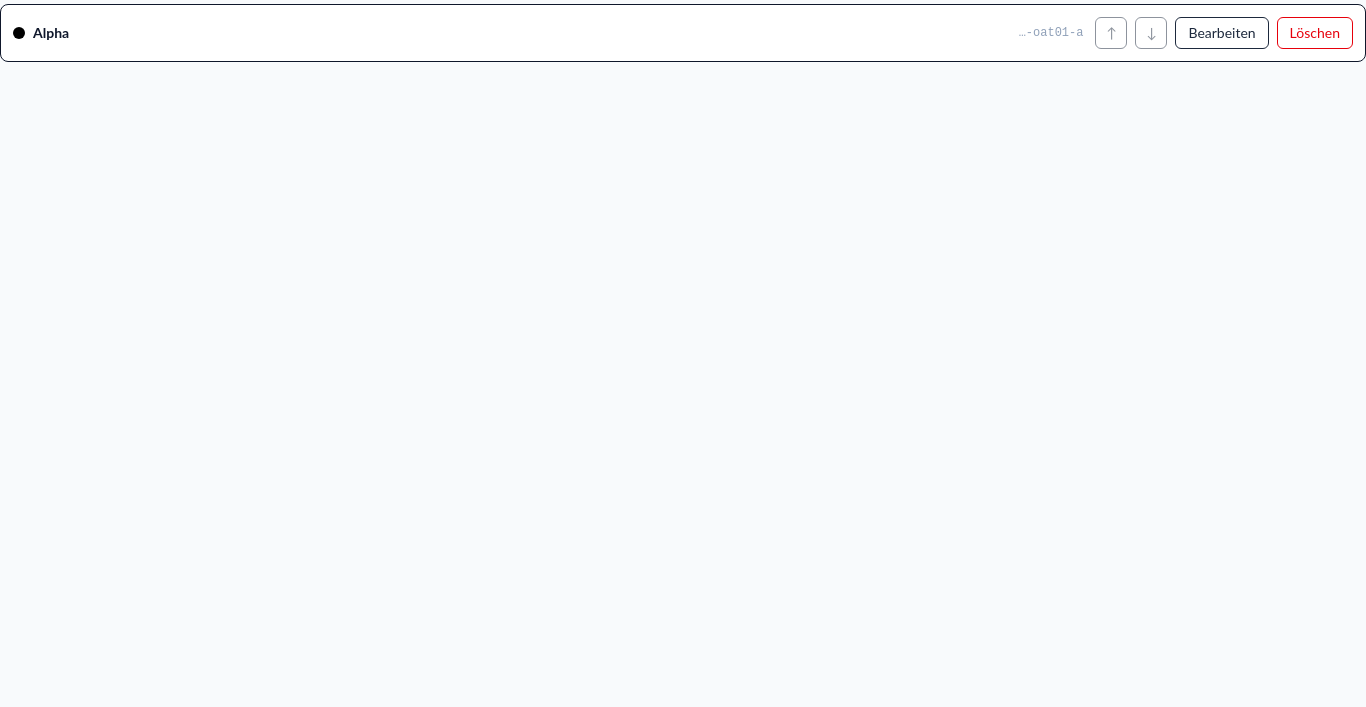
Scenario: AccountsView › leaves the account untouched when editing is cancelled
This screenshot has width=1366, height=707.
Click the button with class "font-bold" showing "Alpha": (51, 32) [33,23,1011,43]
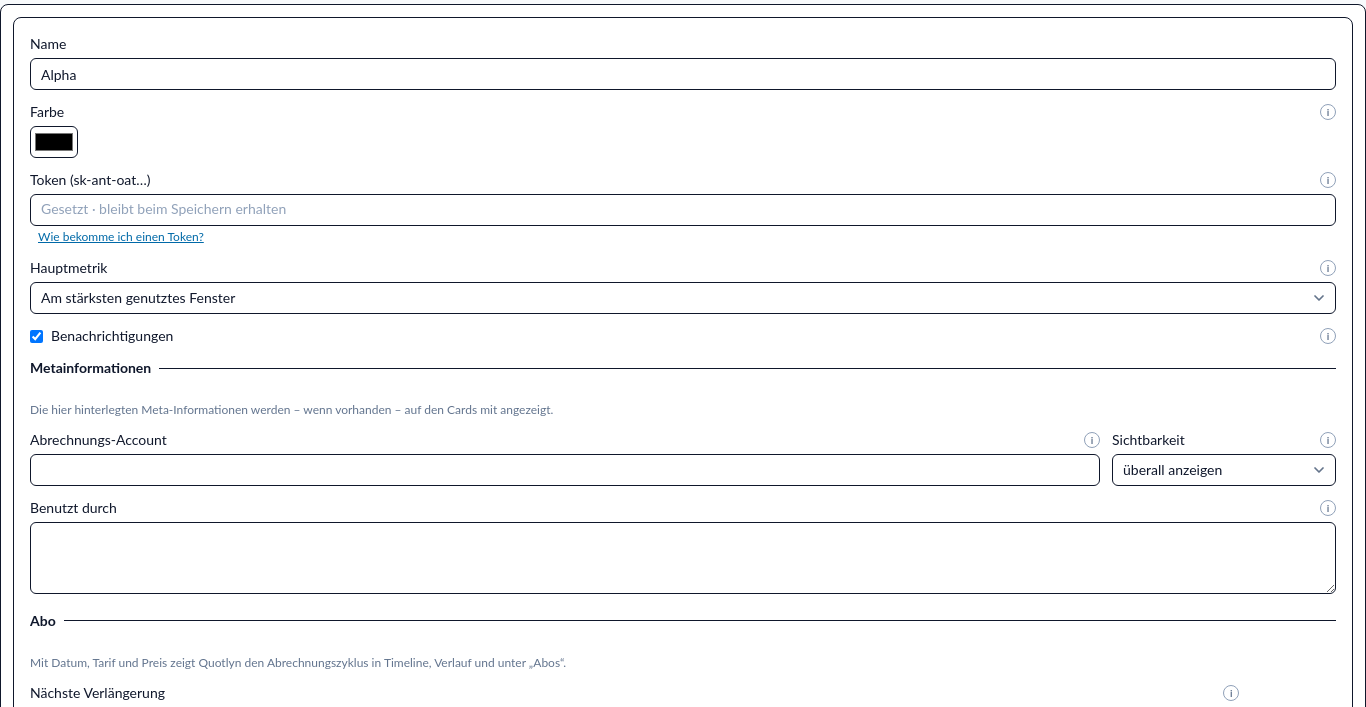
Replace the text in the field labelled "Name" with "Beta": (683, 74) [30,58,1336,90]
(page scrolled)
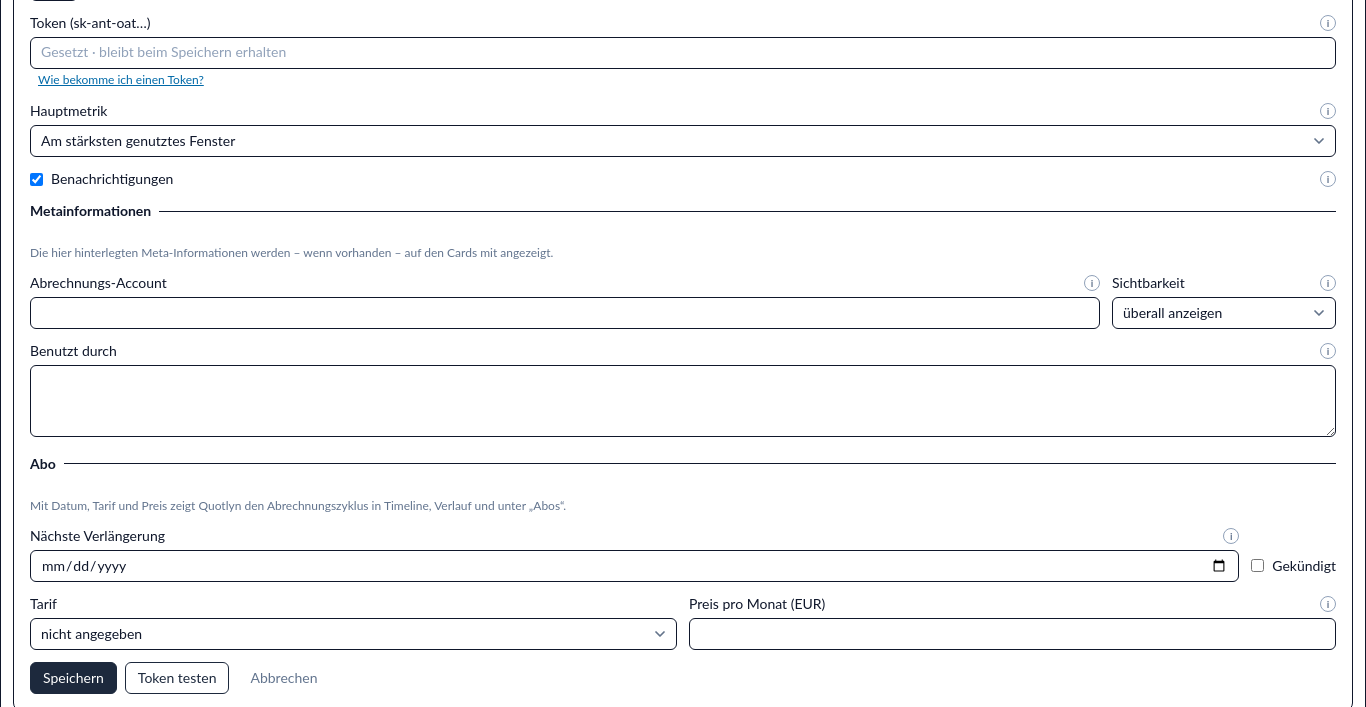
Click the button with class "btn-ghost": (284, 678) [238,662,330,694]
(page scrolled)
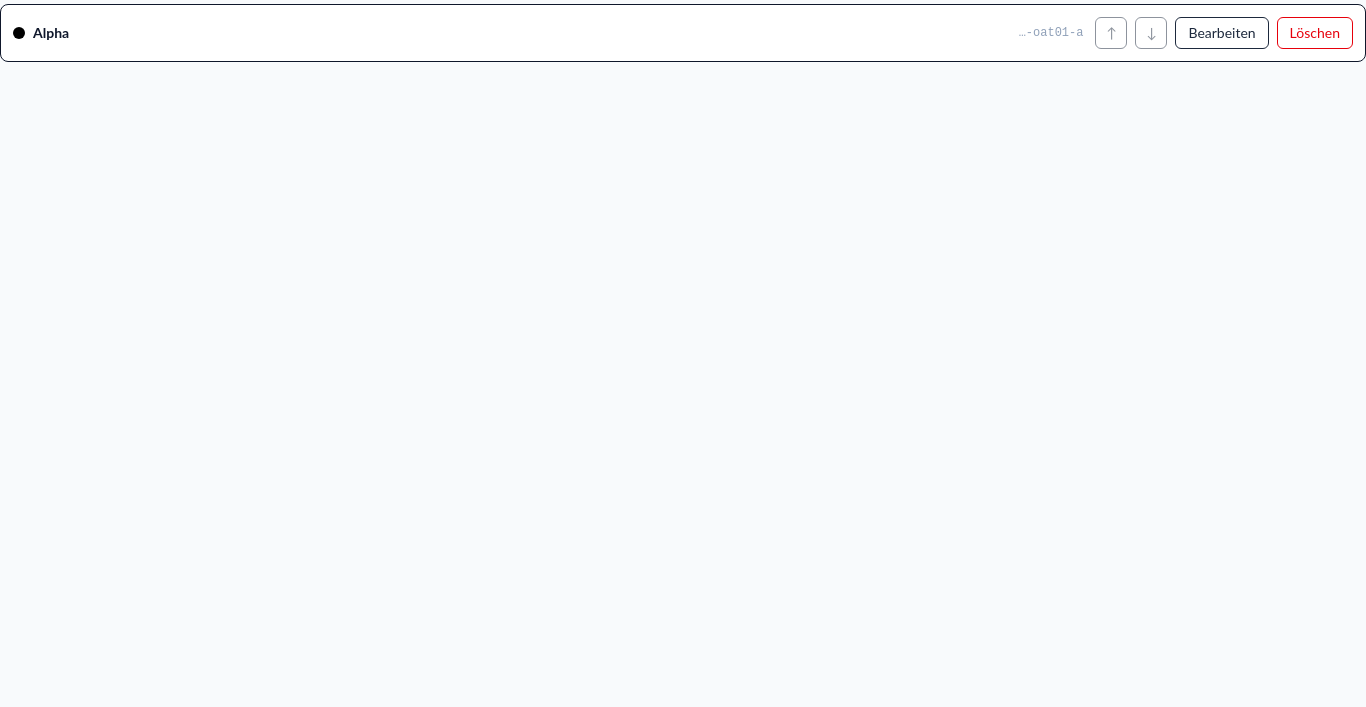
Expected: the button "Alpha" is shown, [33,23,1011,43]
